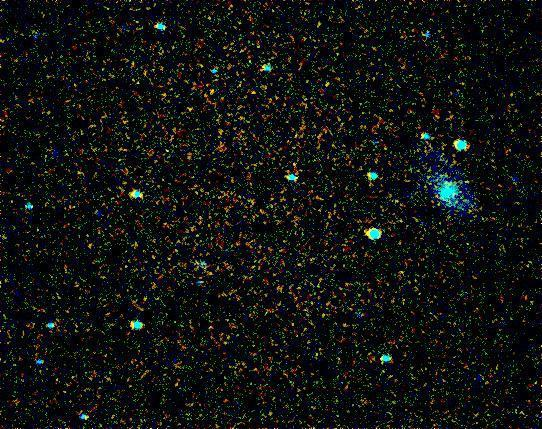star: (450, 165, 480, 195)
